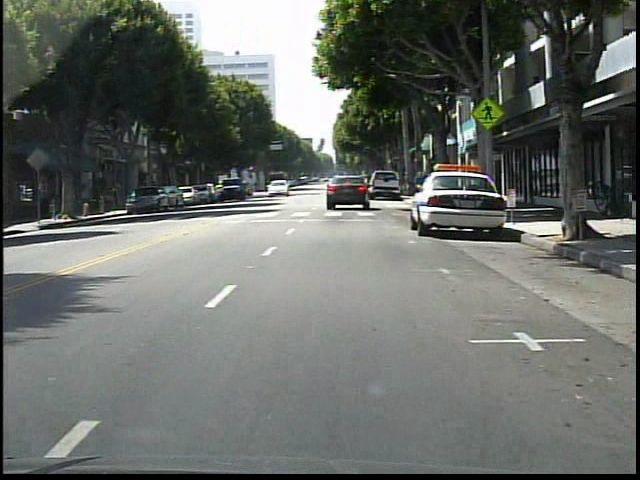person: (410, 166, 430, 204)
